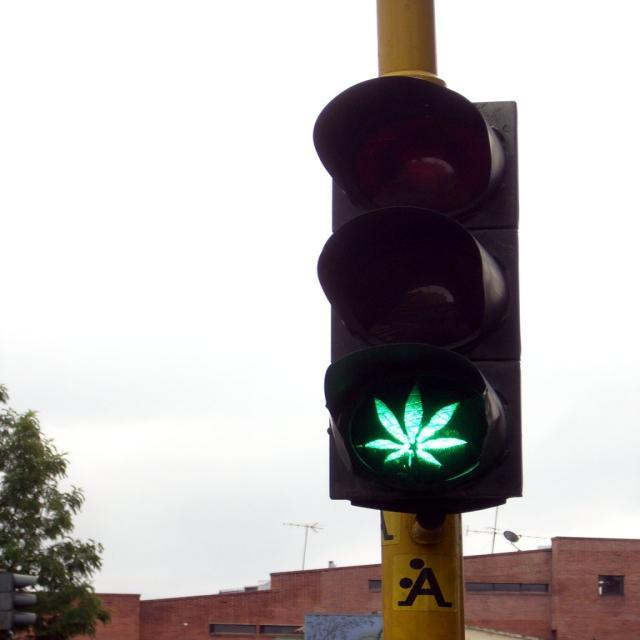traffic light: (319, 81, 521, 503)
